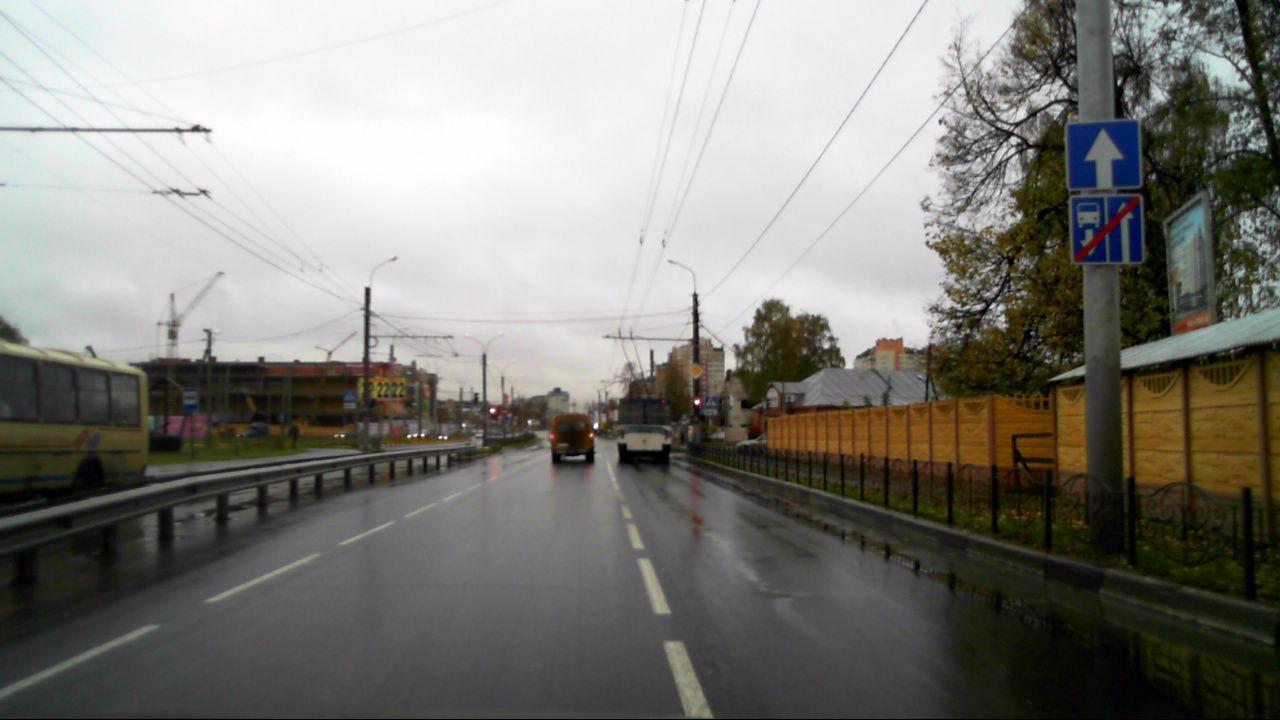2_1: (687, 362, 705, 382)
5_12_1: (1070, 194, 1144, 264)
5_19_1: (705, 396, 719, 408)
5_19_2: (345, 391, 356, 402)
5_5: (1064, 120, 1143, 186)
